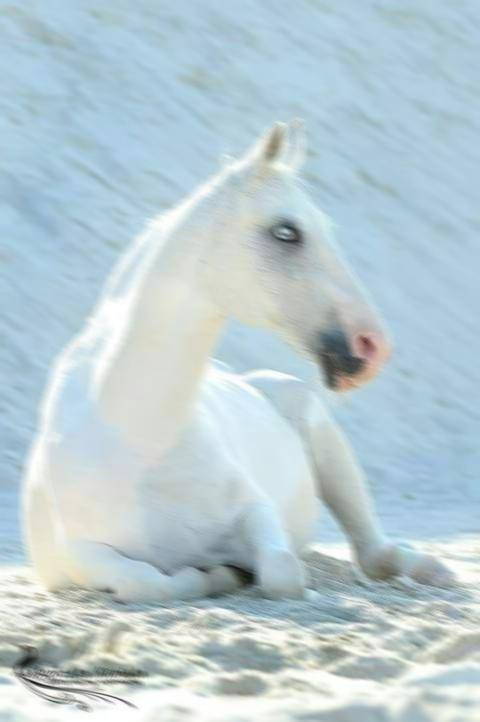horse: (19, 115, 458, 604)
